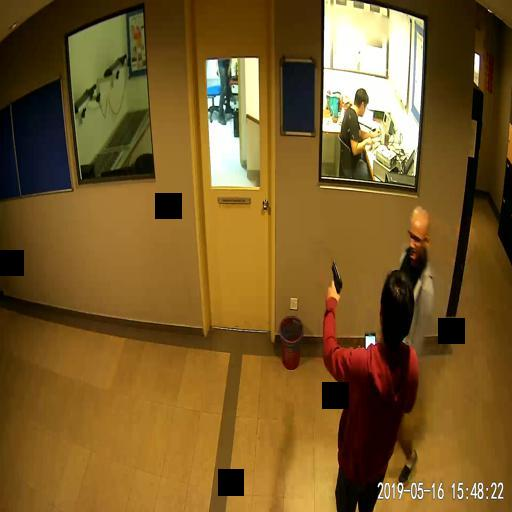Handgun: (328, 259, 341, 297)
